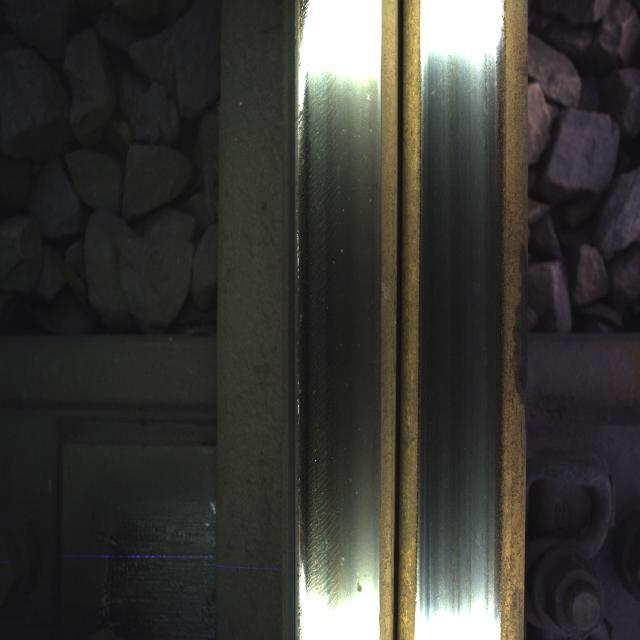break: (424, 78, 504, 582)
normal: (296, 75, 365, 599)
